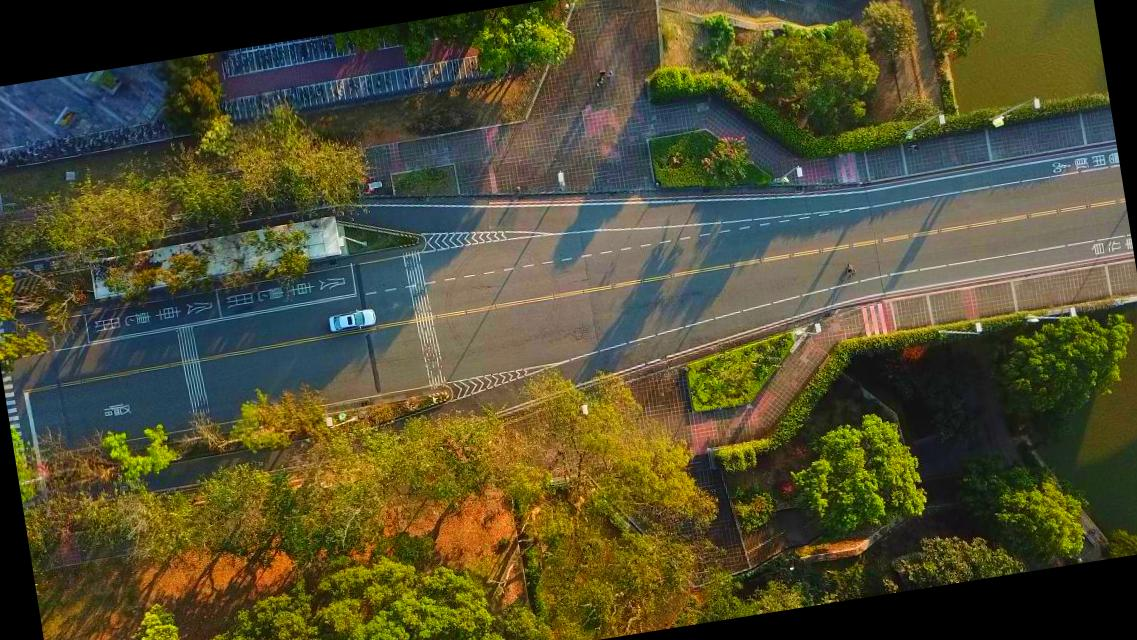vehicle: (326, 306, 377, 332)
